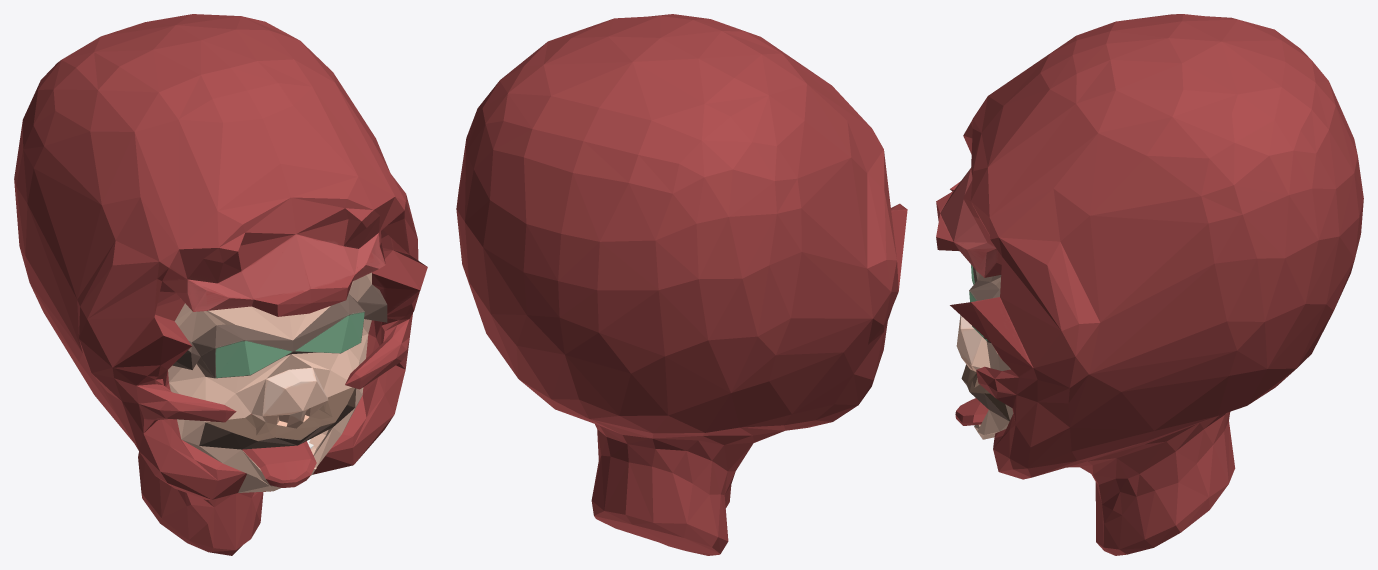
3 renders of one model, left to right at view 1: azimuth 30°, elevation 25°; view 2: azimuth 150°, elevation 25°; view 3: azimuth 270°, elevation 25°, orthographic. The views are drawn at different scales.
Parts seen in each view (by area): view 1: headpart2:Head23:polySurface1, headpart2:Head23:pCube3; view 2: headpart2:Head23:polySurface1; view 3: headpart2:Head23:polySurface1, headpart2:Head23:pCube3.
Part boxes in pixels (x1,y1,x2,y2): headpart2:Head23:polySurface1: [14, 14, 427, 555]; headpart2:Head23:pCube3: [242, 441, 316, 487]; headpart2:Head23:polySurface1: [456, 14, 907, 555]; headpart2:Head23:polySurface1: [936, 14, 1363, 555]; headpart2:Head23:pCube3: [955, 398, 988, 425].
Bounding box in the file's own units: 1.4 × 1.98 × 1.49.
